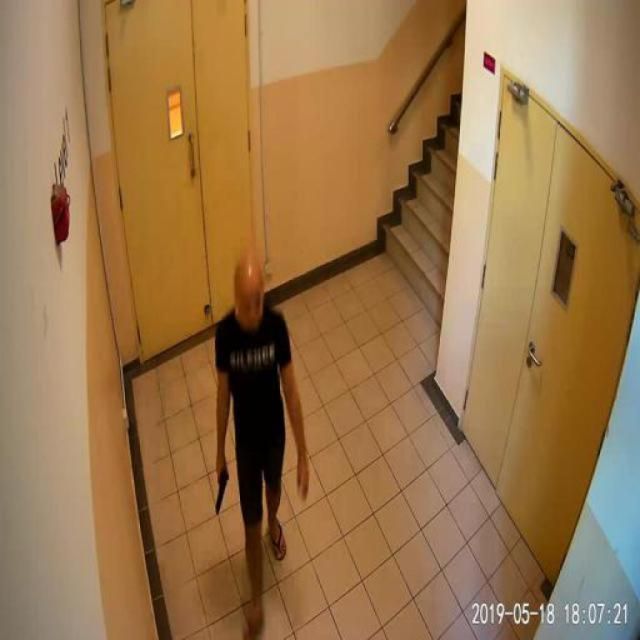pistol: (212, 455, 228, 513)
